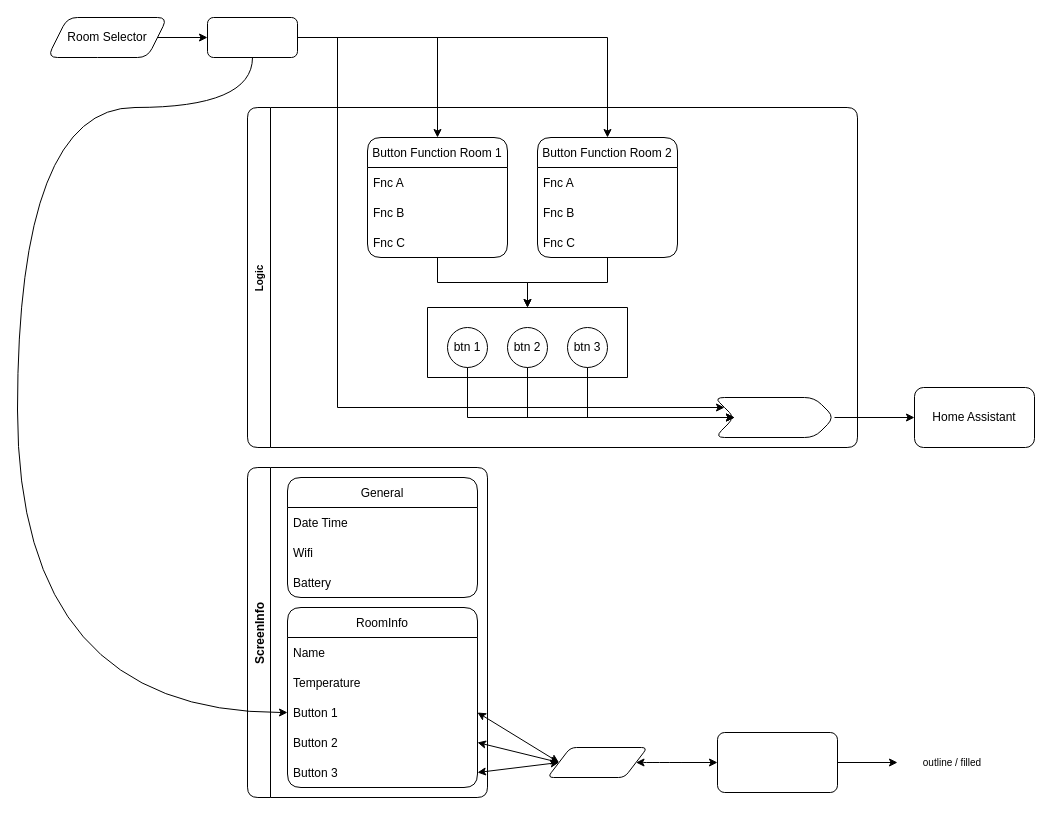
Image size: 1052x815. Some labels were removed from this diagram. The shapes that lost their labels are listed below. From the top down, each one's centre as x and y in pixels, then its label:
At (x=252, y=37): "Room".
At (x=774, y=417): "NodeRed".
At (x=597, y=762): "state".
At (x=777, y=762): "mdi label".
